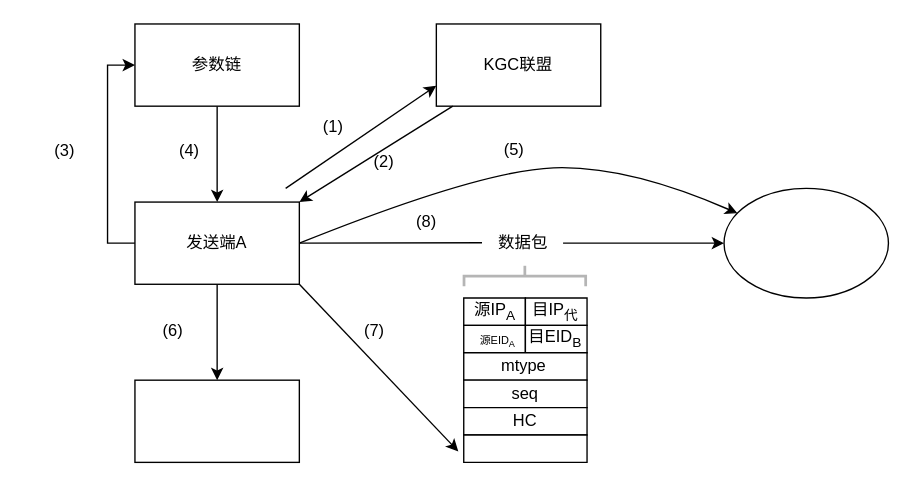
This 912x493 diagram has some shape labels left out. Here are the shapes that lost their labels. From the top down, the centre of each, then its label:
At [805,242]: "代理节点群".
At [216,420]: "报文哈希链".
At [524,448]: "Sign SM9".
